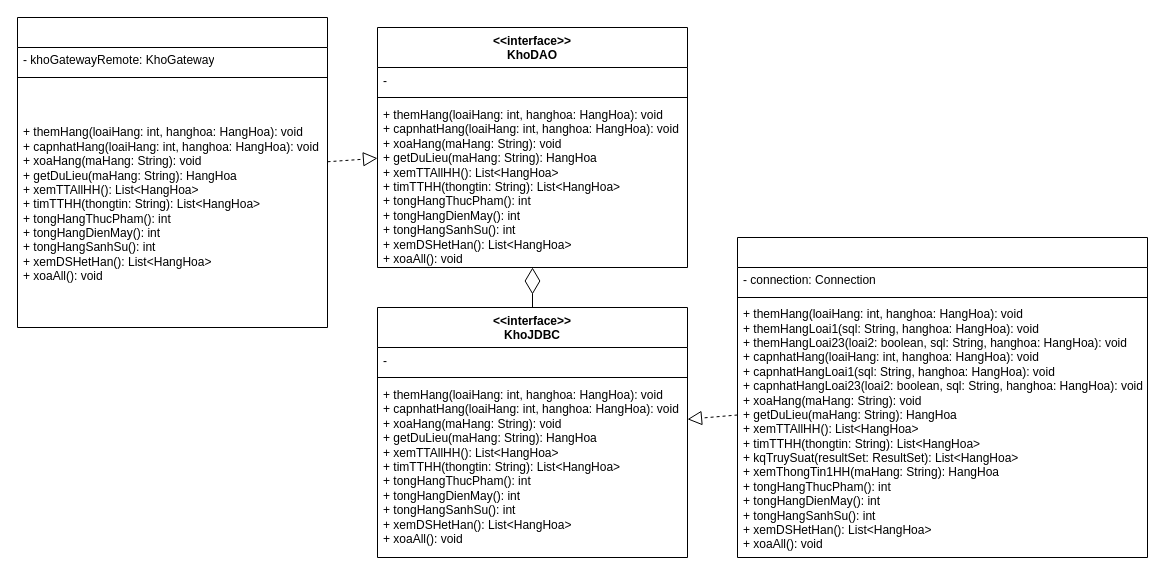
The diagram is 1165 pixels wide and 578 high, and some of its shapes have lost their labels. Each missing label, with the box of its shape:
KhoDAOImpl: (16, 16, 328, 328)
KhoJDBCImpl: (736, 236, 1148, 558)
